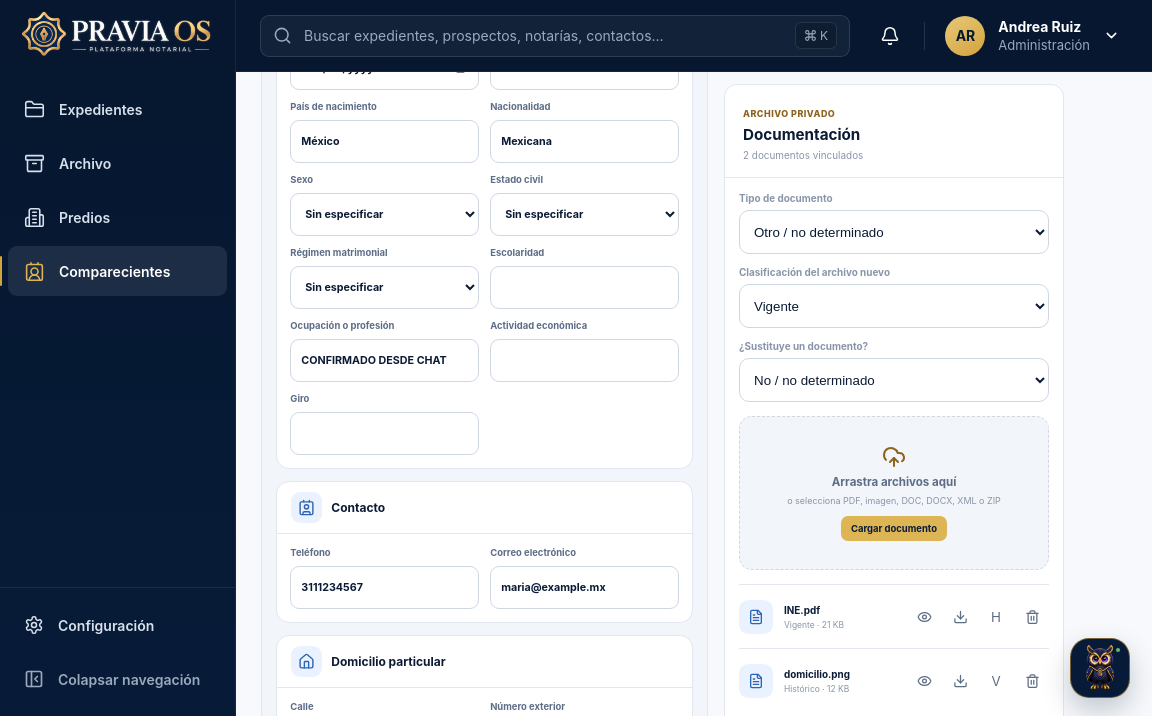
Comparecientes client workspace › reconsulta el maestro después del chat y conserva una edición local sin sobrescribirla
The width and height of the screenshot is (1152, 716).
(page scrolled)
Replace the text in the field showing "CONFIRMADO DESDE CHAT" with "BORRADOR LOCAL": (385, 361) [290,339,479,382]
(page scrolled)
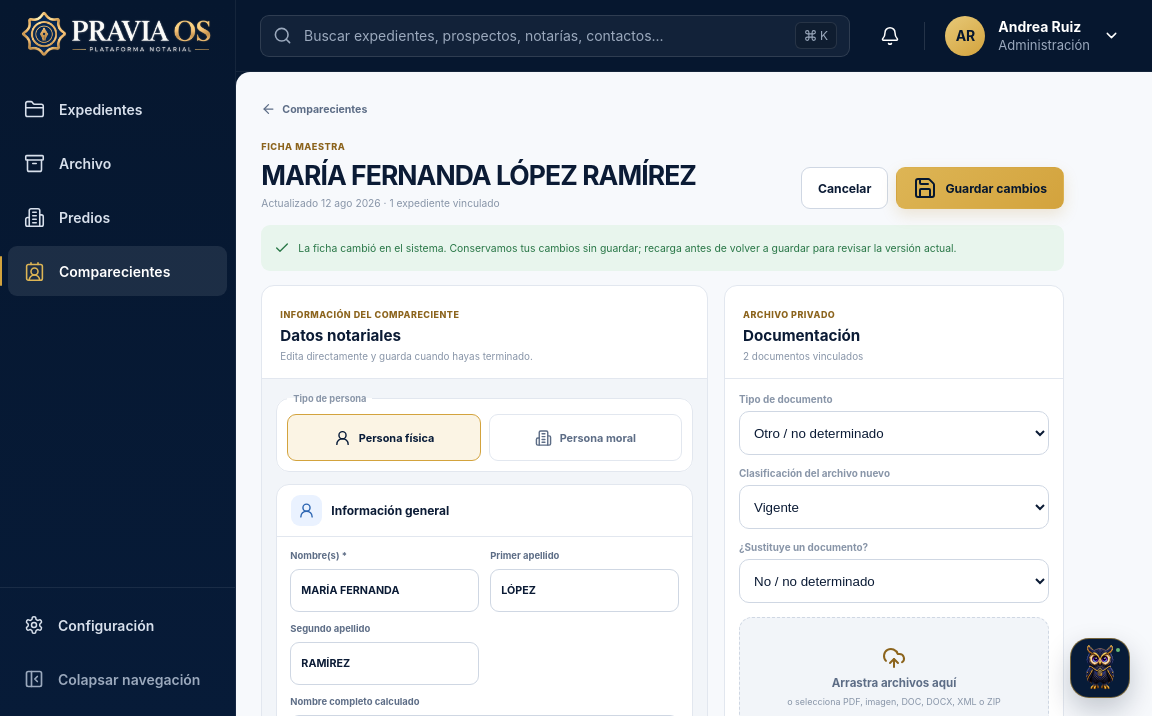
Result: the text "Conservamos tus cambios sin guardar" is shown at [298,242,956,255]
